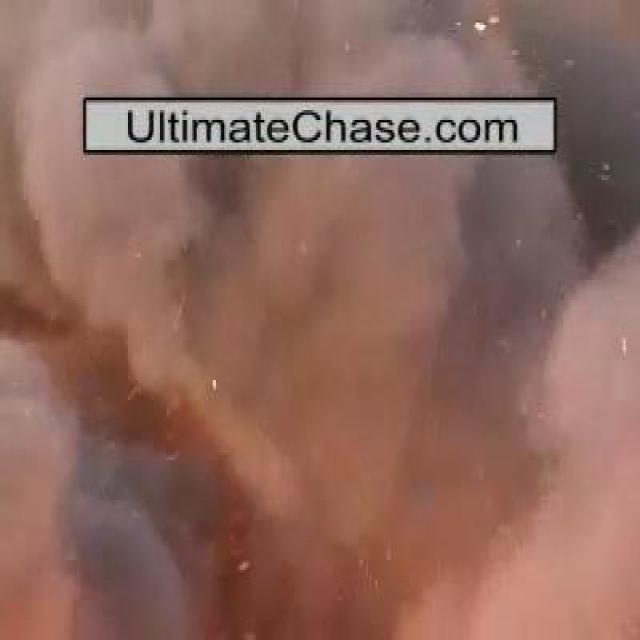Smoke: (46, 160, 578, 585)
